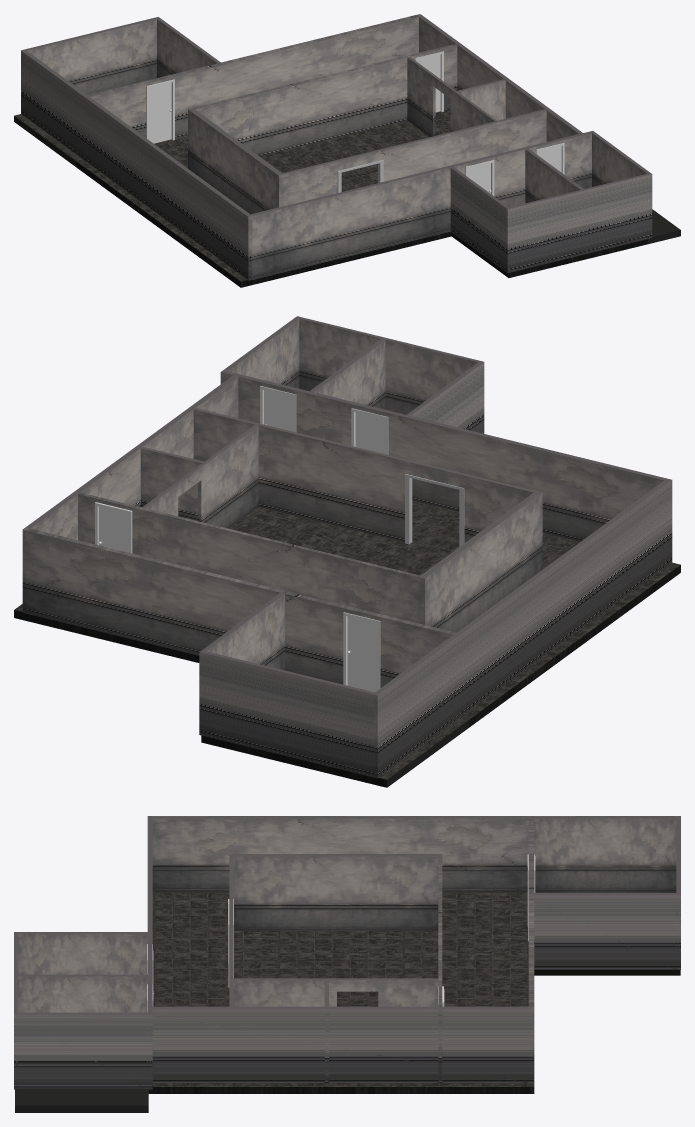
The model's file is SegundaFase.fbx.
3 renders of one model, top to bottom at view 1: azimuth 30°, elevation 25°; view 2: azimuth 150°, elevation 25°; view 3: azimuth 270°, elevation 25°, orthographic. The views are drawn at different scales.
Visible parts, largest first — view 1: paredeFora, ParerdeDentro, Chão, Porta.011, Porta.003, Borda.004, Porta.001; view 2: paredeFora, ParerdeDentro, Chão, Porta.011, Porta.003, Borda.005, Porta.001, Porta.002, Borda.004; view 3: paredeFora, Chão, ParerdeDentro.
Part boxes in pixels (left/top/right/bottom): paredeFora: left=21, top=14, right=652, bottom=280; ParerdeDentro: left=188, top=44, right=546, bottom=214; Chão: left=14, top=110, right=680, bottom=287; Porta.011: left=149, top=82, right=171, bottom=143; Porta.003: left=418, top=54, right=440, bottom=112; Borda.004: left=146, top=79, right=174, bottom=140; Porta.001: left=468, top=163, right=490, bottom=193; paredeFora: left=22, top=316, right=672, bottom=778; ParerdeDentro: left=78, top=408, right=542, bottom=632; Chão: left=14, top=501, right=680, bottom=787; Porta.011: left=347, top=616, right=376, bottom=692; Porta.003: left=99, top=506, right=128, bottom=552; Borda.005: left=405, top=474, right=464, bottom=546; Porta.001: left=355, top=412, right=384, bottom=453; Porta.002: left=264, top=390, right=293, bottom=431; Borda.004: left=343, top=612, right=380, bottom=690; paredeFora: left=14, top=816, right=680, bottom=1089; Chão: left=15, top=893, right=680, bottom=1112; ParerdeDentro: left=229, top=854, right=442, bottom=1083.
Bounding box in the file's own units: 3535 × 614 × 4549.
